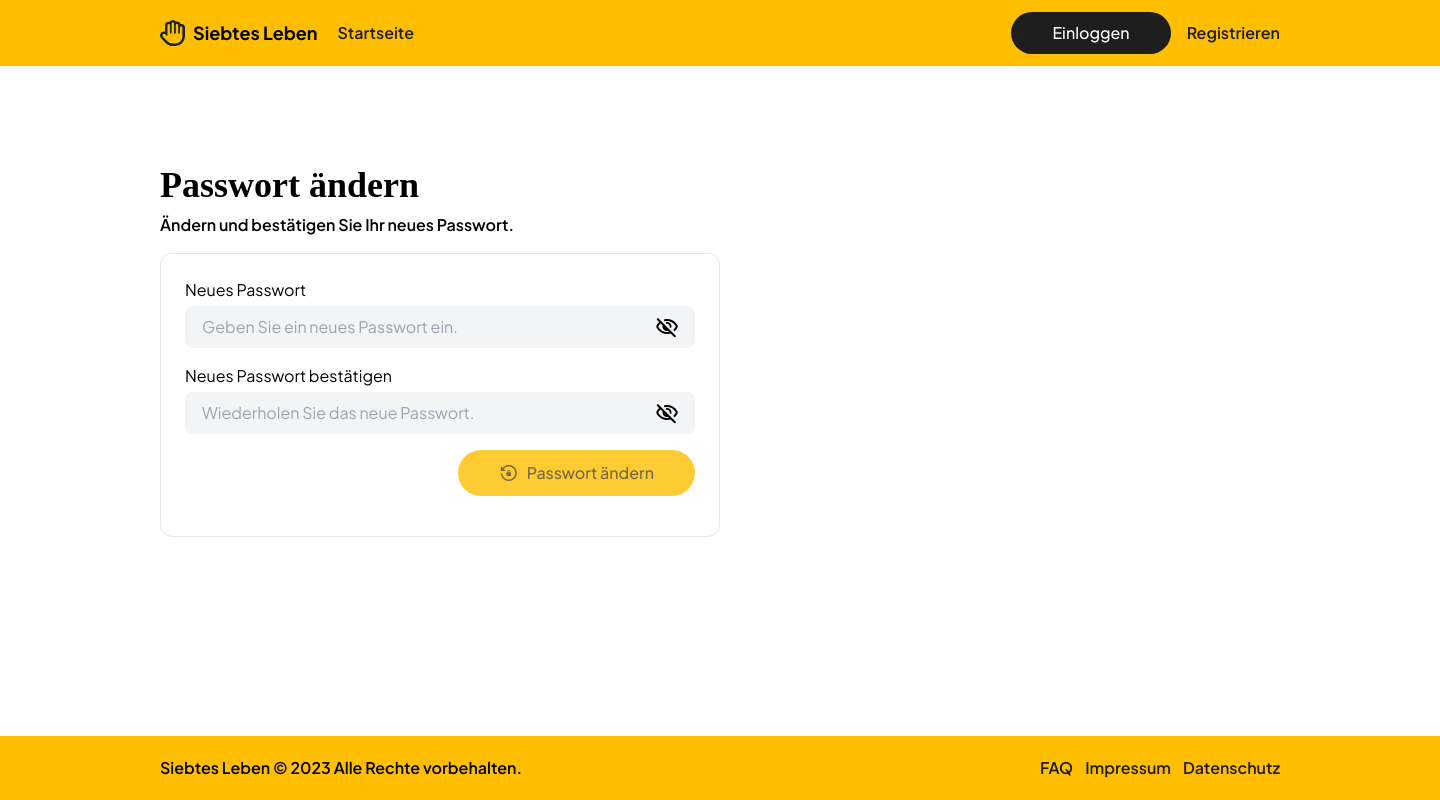
Scenario: Forgot password › Password Change Page › should change password successfully
Step 1. Type "password1234" into the password field labelled "Neues Passwort" → (440, 327), box [185,306,695,348]
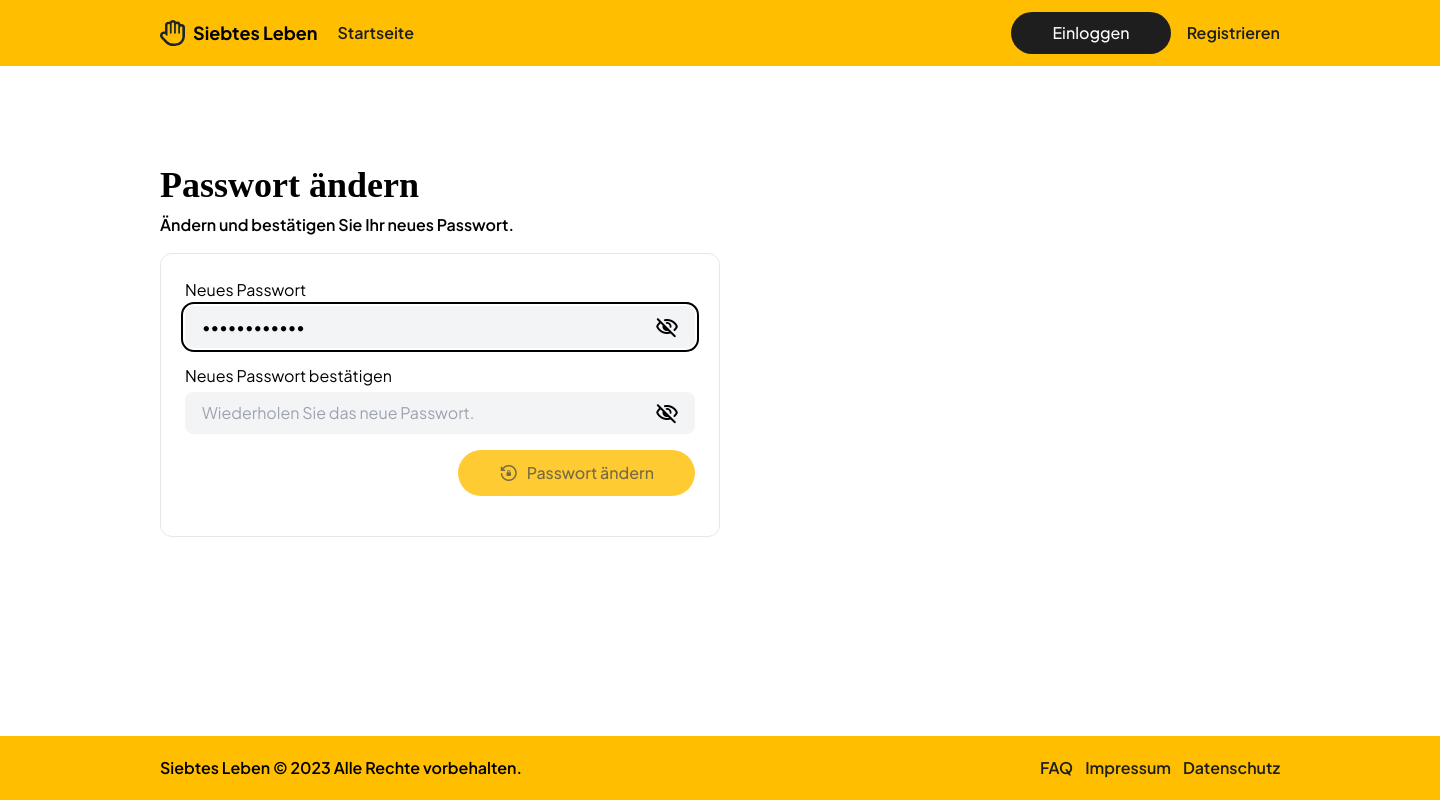
Step 2. Type "password1234" into the password field labelled "Neues Passwort bestätigen" → (440, 413), box [185,392,695,434]
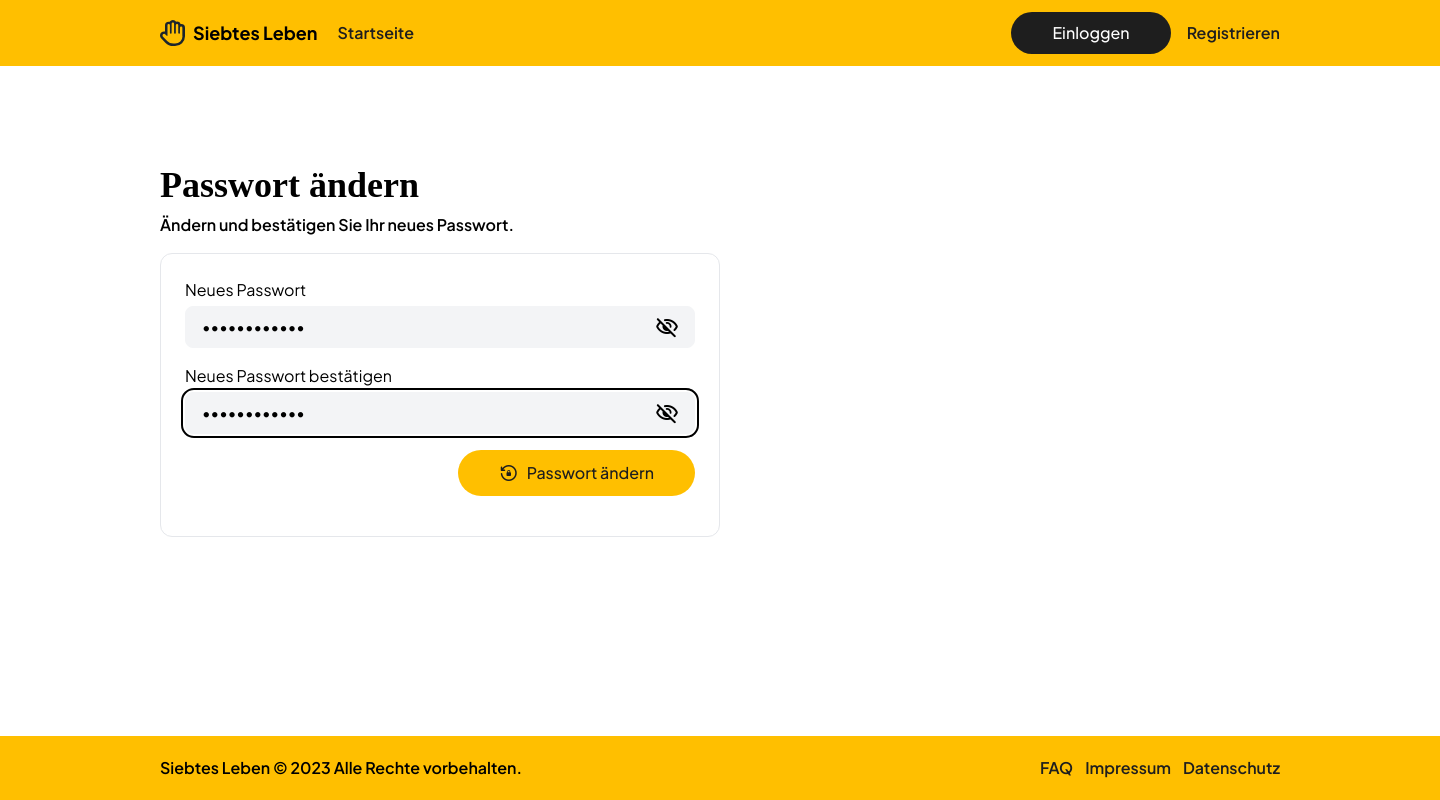
Step 3. Click the button "Passwort ändern" → (577, 473), box [458,450,695,496]
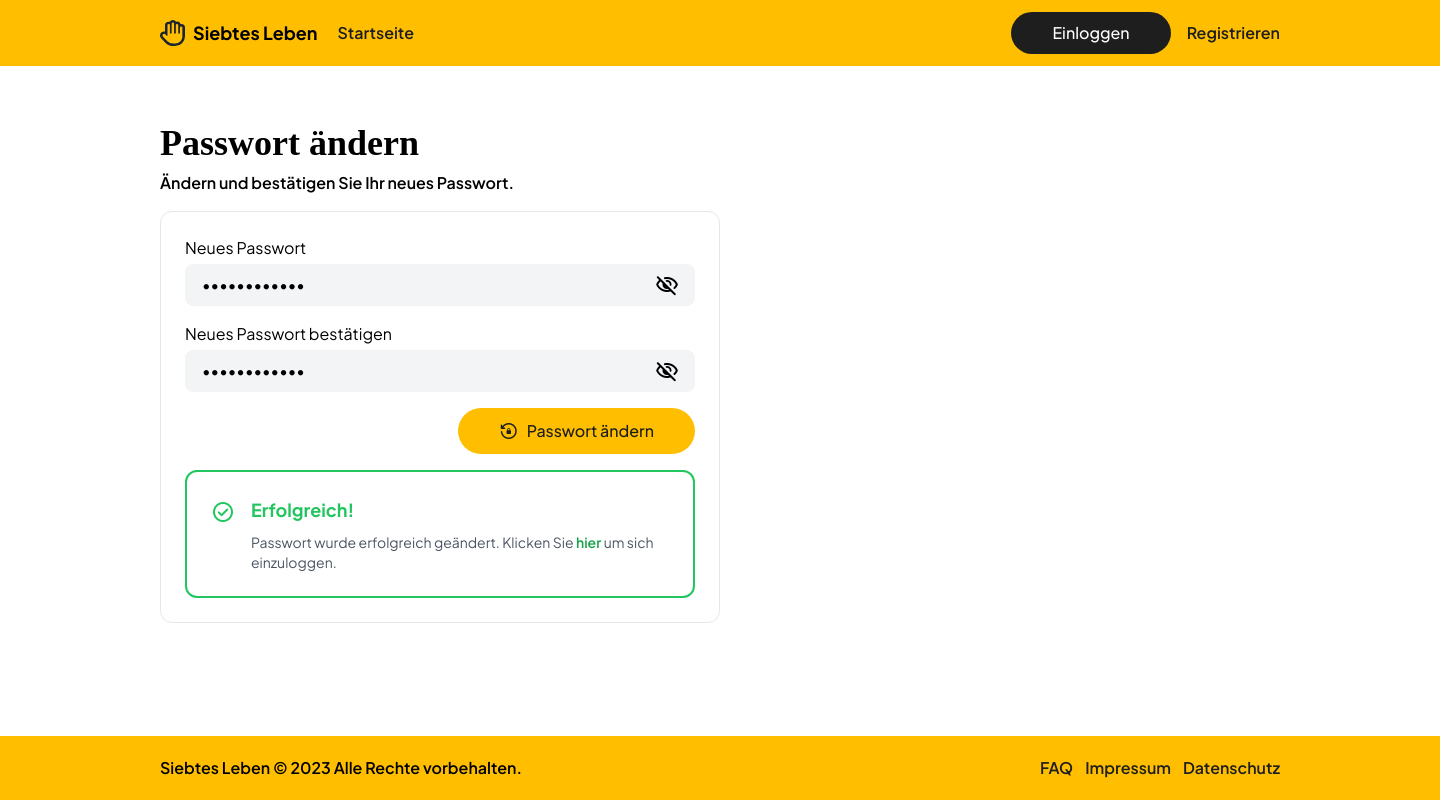
expect the heading "Erfolgreich!" is shown: met, box [251,498,354,521]
expect the text "Passwort wurde erfolgreich geändert. Klicken Sie hier um sich einzuloggen." is shown: met, box [251,532,669,572]
